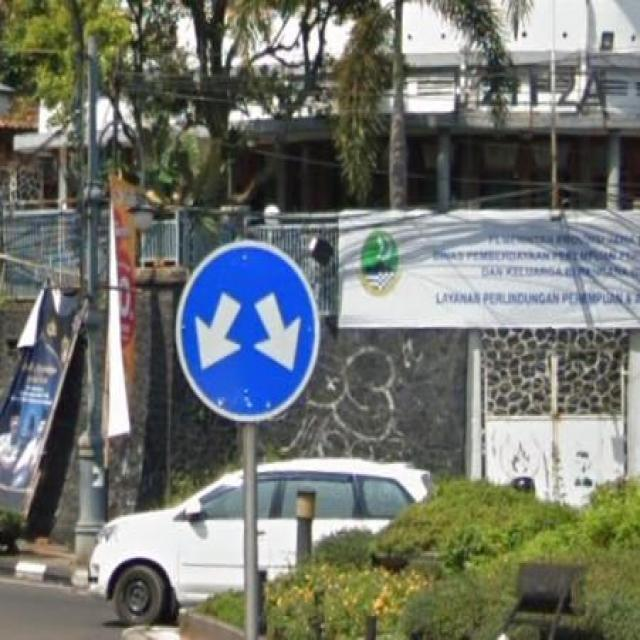traffic sign: (175, 240, 320, 420)
